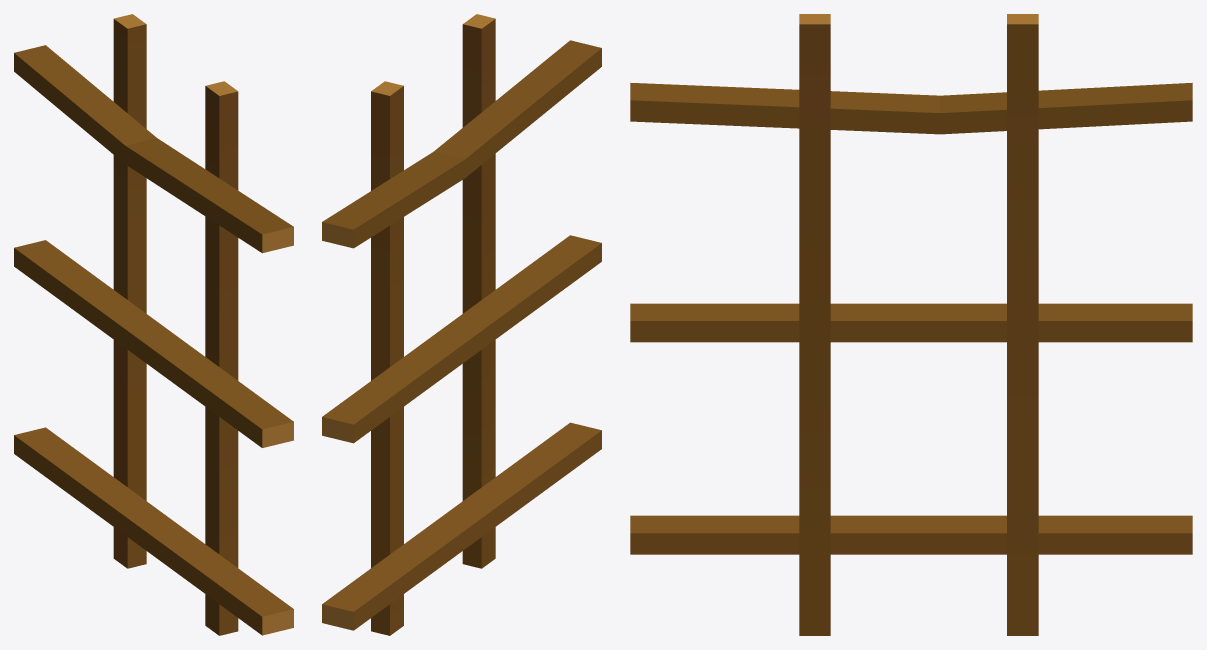
The model's file is WoodFrame_1_2.fbx.
3 views of the same model, side by side, from view 1: azimuth 30°, elevation 25°; view 2: azimuth 150°, elevation 25°; view 3: azimuth 270°, elevation 25° (orthographic). The views are drawn at different scales.
Visible parts, largest first — view 1: WoodFrame_1_2; view 2: WoodFrame_1_2; view 3: WoodFrame_1_2.
Boxes of the visible parts, x1,y1,x2,y2 form: WoodFrame_1_2: (14, 14, 293, 635); WoodFrame_1_2: (322, 14, 601, 635); WoodFrame_1_2: (630, 14, 1192, 635).
Bounding box in the file's own units: 23.57 × 240 × 200.
